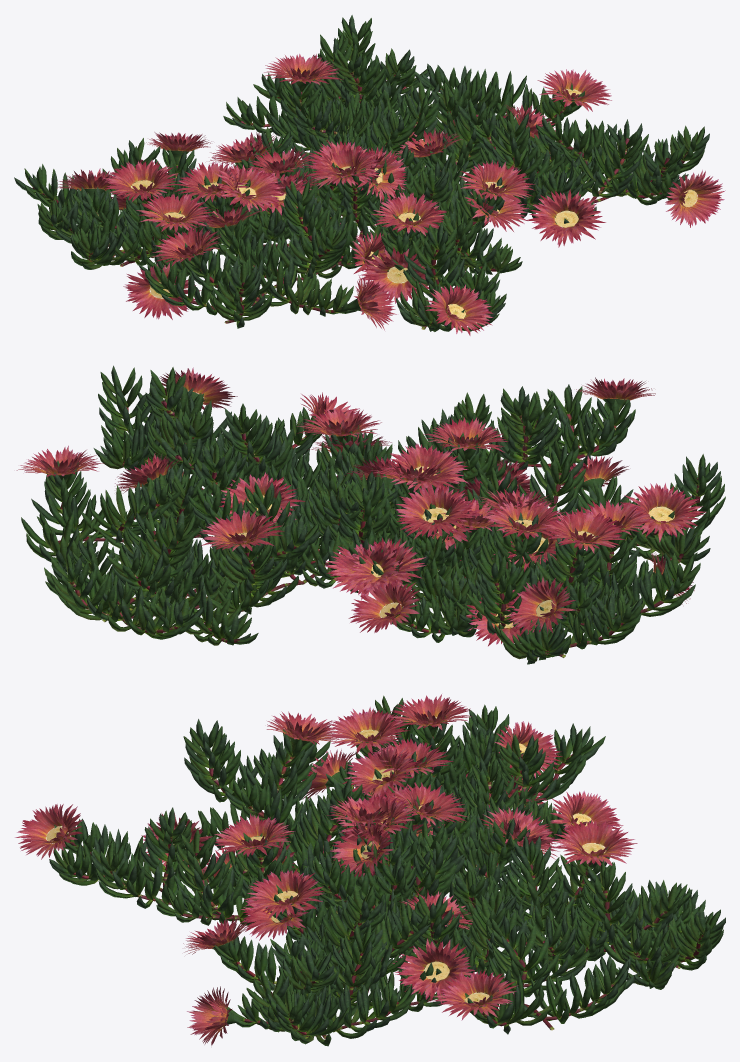
File: carpo_01.glb
The picture shows the model from 3 angles, top to bottom: view 1: azimuth 30°, elevation 25°; view 2: azimuth 150°, elevation 25°; view 3: azimuth 270°, elevation 25°; orthographic projection. The views are drawn at different scales.
Parts seen in each view (by area): view 1: Carpobrotus_edulis004_1, Carpobrotus_edulis004_3, Carpobrotus_edulis004_2, Carpobrotus_edulis004_5, Carpobrotus_edulis004_7, Carpobrotus_edulis004_6, Carpobrotus_edulis004_0, Carpobrotus_edulis004_4; view 2: Carpobrotus_edulis004_1, Carpobrotus_edulis004_3, Carpobrotus_edulis004_2, Carpobrotus_edulis004_6, Carpobrotus_edulis004_5, Carpobrotus_edulis004_7, Carpobrotus_edulis004_0, Carpobrotus_edulis004_4; view 3: Carpobrotus_edulis004_1, Carpobrotus_edulis004_3, Carpobrotus_edulis004_2, Carpobrotus_edulis004_6, Carpobrotus_edulis004_5, Carpobrotus_edulis004_7, Carpobrotus_edulis004_0, Carpobrotus_edulis004_4.
Boxes of the visible parts, x1,y1,x2,y2 form: Carpobrotus_edulis004_1: [24, 18, 704, 331]; Carpobrotus_edulis004_3: [14, 15, 709, 331]; Carpobrotus_edulis004_2: [35, 17, 693, 331]; Carpobrotus_edulis004_5: [58, 54, 725, 333]; Carpobrotus_edulis004_7: [59, 55, 722, 332]; Carpobrotus_edulis004_6: [56, 54, 720, 335]; Carpobrotus_edulis004_0: [32, 60, 687, 329]; Carpobrotus_edulis004_4: [131, 75, 697, 318]; Carpobrotus_edulis004_1: [26, 367, 725, 661]; Carpobrotus_edulis004_3: [31, 365, 720, 664]; Carpobrotus_edulis004_2: [21, 370, 710, 657]; Carpobrotus_edulis004_6: [25, 371, 706, 643]; Carpobrotus_edulis004_5: [16, 367, 702, 644]; Carpobrotus_edulis004_7: [24, 368, 704, 646]; Carpobrotus_edulis004_0: [58, 388, 699, 657]; Carpobrotus_edulis004_4: [231, 466, 674, 627]; Carpobrotus_edulis004_1: [53, 695, 723, 1046]; Carpobrotus_edulis004_3: [49, 709, 725, 1036]; Carpobrotus_edulis004_2: [54, 704, 720, 1035]; Carpobrotus_edulis004_6: [18, 695, 637, 1044]; Carpobrotus_edulis004_5: [15, 694, 634, 1045]; Carpobrotus_edulis004_7: [20, 697, 633, 1043]; Carpobrotus_edulis004_0: [70, 736, 703, 1039]; Carpobrotus_edulis004_4: [46, 717, 606, 1026].
Bounding box in the file's own units: 3.93 × 0.6731 × 3.79.
8 materials, 8 textured.
